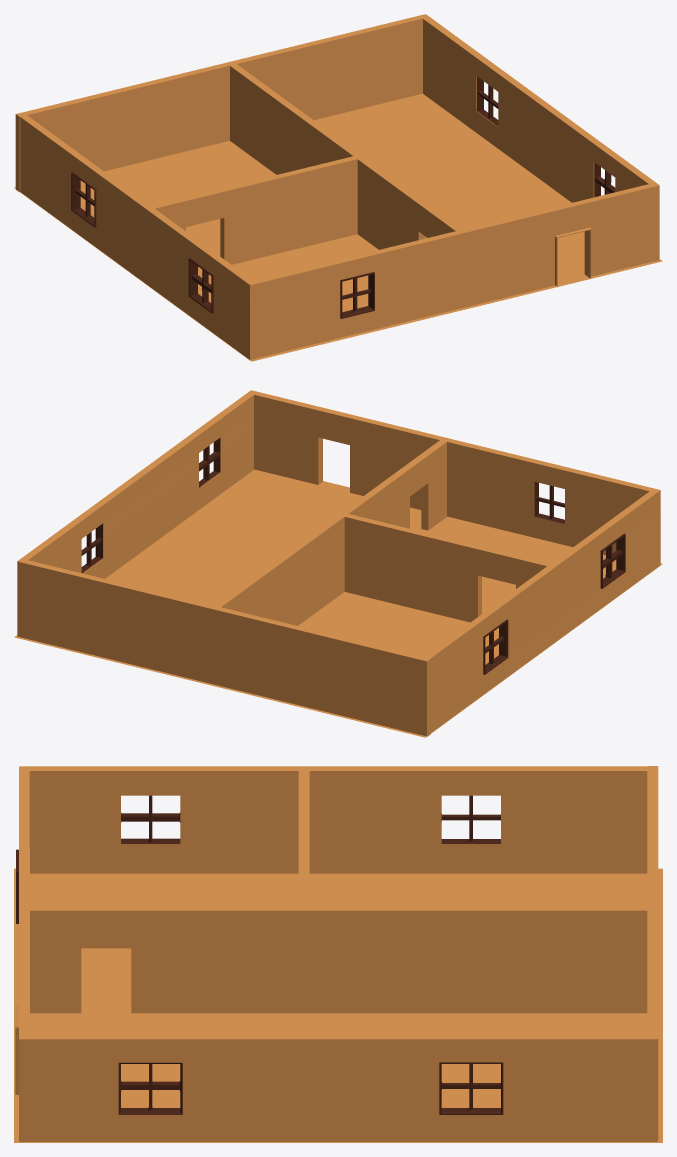
Rendered from house.fbx.
The picture shows the model from 3 angles, top to bottom: view 1: azimuth 30°, elevation 25°; view 2: azimuth 150°, elevation 25°; view 3: azimuth 270°, elevation 25°; orthographic projection. The views are drawn at different scales.
Parts seen in each view (by area): view 1: Куб.005; view 2: Куб.005; view 3: Куб.005.
Boxes of the visible parts, x1=… form: Куб.005: x1=14, y1=14, x2=662, y2=361; Куб.005: x1=14, y1=390, x2=662, y2=737; Куб.005: x1=14, y1=766, x2=662, y2=1142.
Bounding box in the file's own units: 2300 × 403 × 2294.
